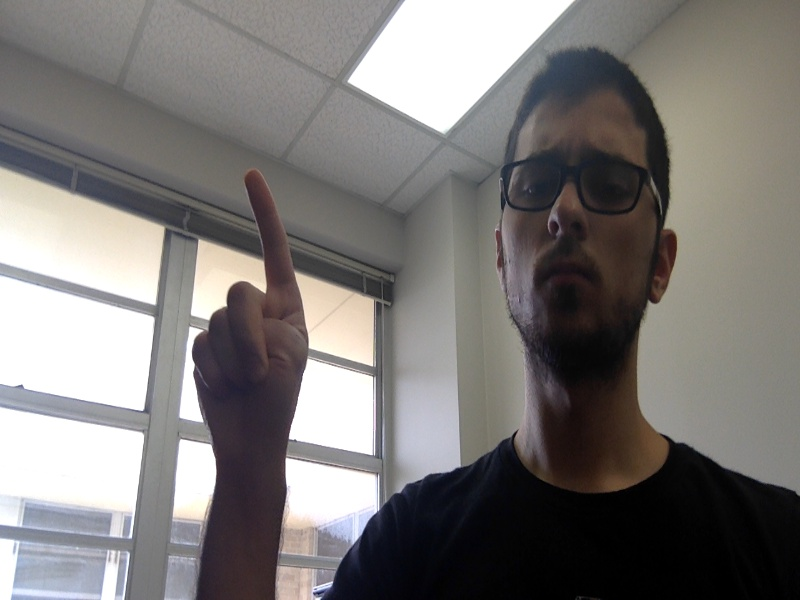1-hand: (192, 168, 309, 455)
